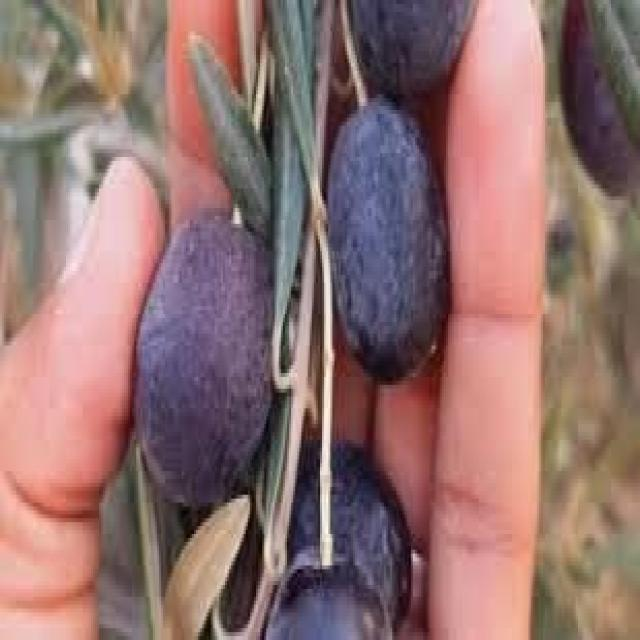Healthy: (134, 212, 274, 503), (330, 94, 446, 381)
